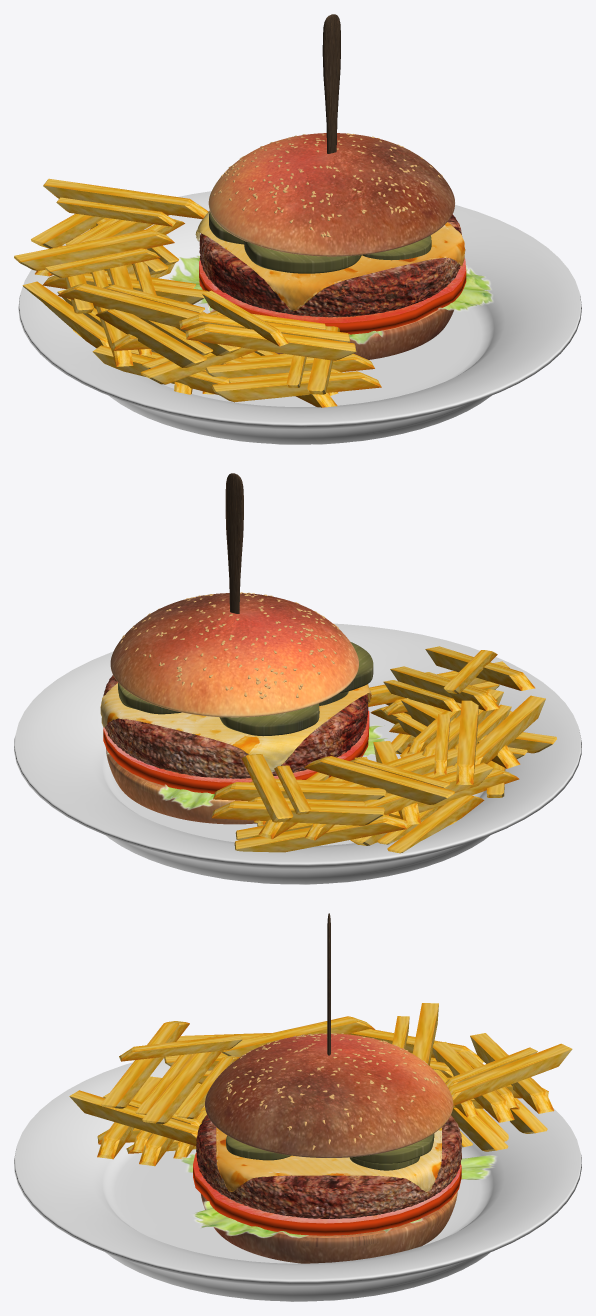
Rendered from tasty_burger_with_fries.glb.
The picture shows the model from 3 angles, top to bottom: view 1: azimuth 30°, elevation 25°; view 2: azimuth 150°, elevation 25°; view 3: azimuth 270°, elevation 25°; orthographic projection.
Parts seen in each view (by area): view 1: Cylinder.013; view 2: Cylinder.013; view 3: Cylinder.013.
Boxes of the visible parts, left/top/right/bottom form: Cylinder.013: left=14, top=14, right=581, bottom=444; Cylinder.013: left=14, top=473, right=581, bottom=884; Cylinder.013: left=14, top=913, right=581, bottom=1301.
Size of the model in its own units: 434 by 271 by 434.
12 materials, 9 textured.
